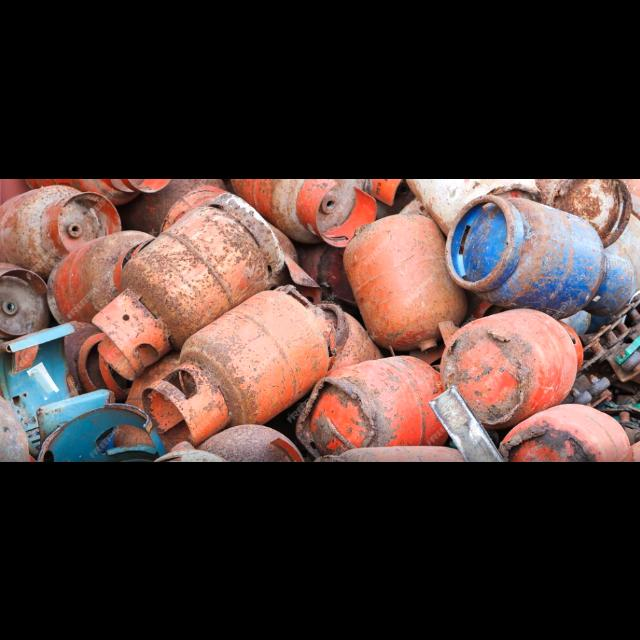Cylinders: (144, 280, 332, 452), (448, 190, 635, 319)
